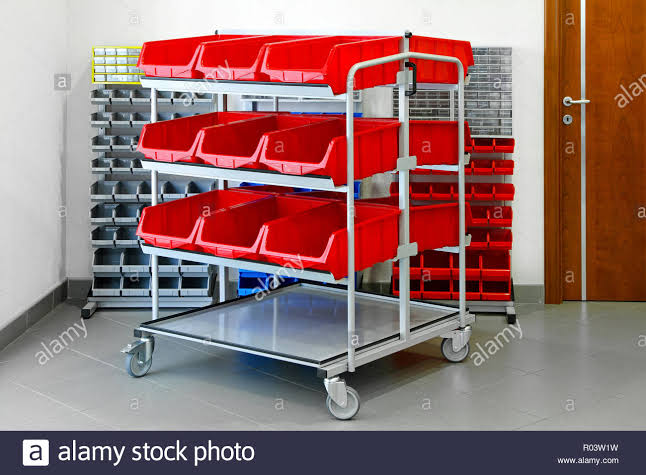Carts: (120, 35, 476, 420)
